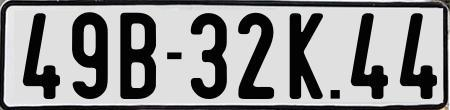2: (235, 10, 272, 98)
3: (189, 10, 231, 101)
4: (349, 12, 392, 98), (20, 10, 57, 102), (398, 11, 432, 103)
9: (70, 11, 108, 99)
B: (119, 10, 155, 98)
K: (289, 12, 327, 104)
